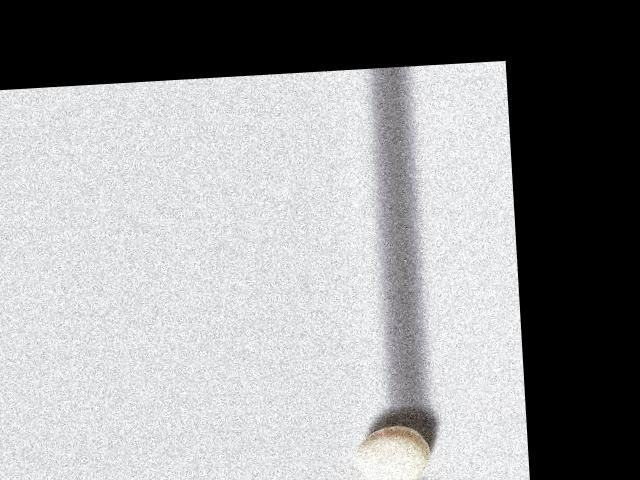egg: (355, 423, 432, 480)
